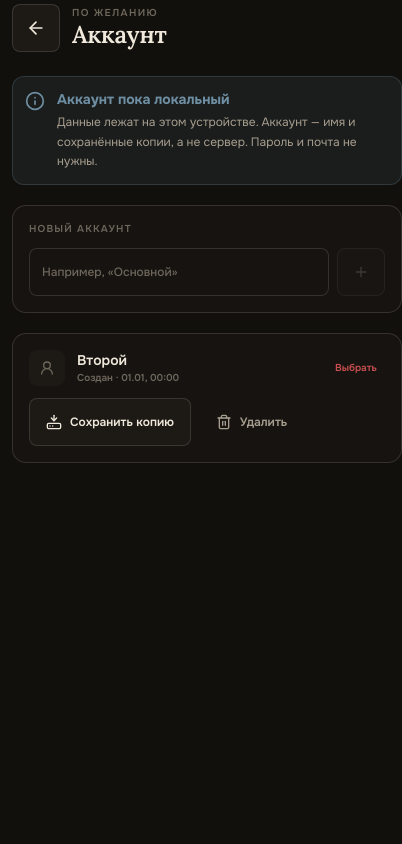
Accounts page › restores a snapshot and reports the count
Check: the text "Второй" is shown, box [77,350,127,368]
What coordinates should you click on to do the following:
click the button "Выбрать"
I would click on:
 (356, 368)
Its box is [327,350,385,386].
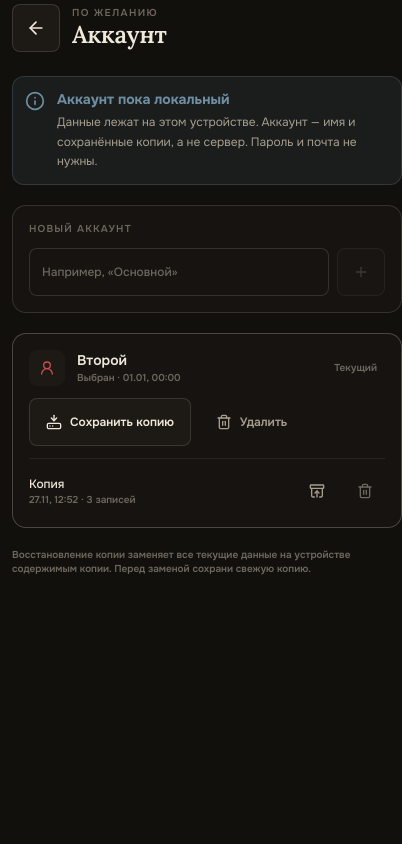
What coordinates should you click on to do the following:
click the button named "Восстановить копию"
I would click on:
 (317, 490)
Its box is [297,470,337,510].
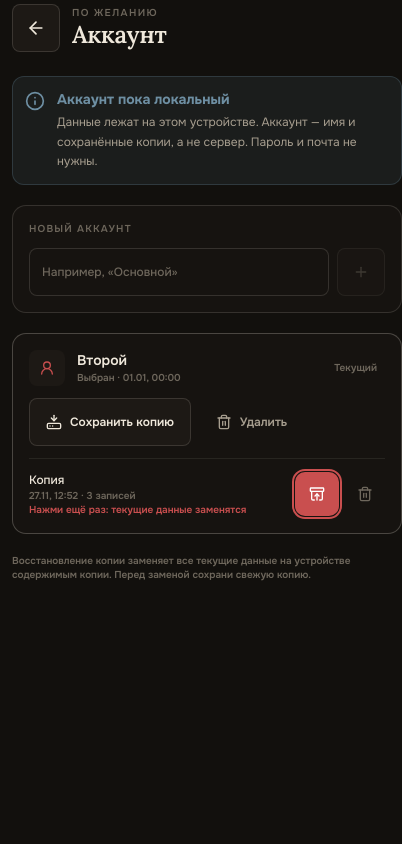
Check: the text "Нажми ещё раз: текущие данные заменятся" is shown, box [29,502,246,516]
What coordinates should you click on to do the following:
click the button named "Подтвердить восстановление"
I would click on:
 (317, 494)
Its box is [297,474,337,514].
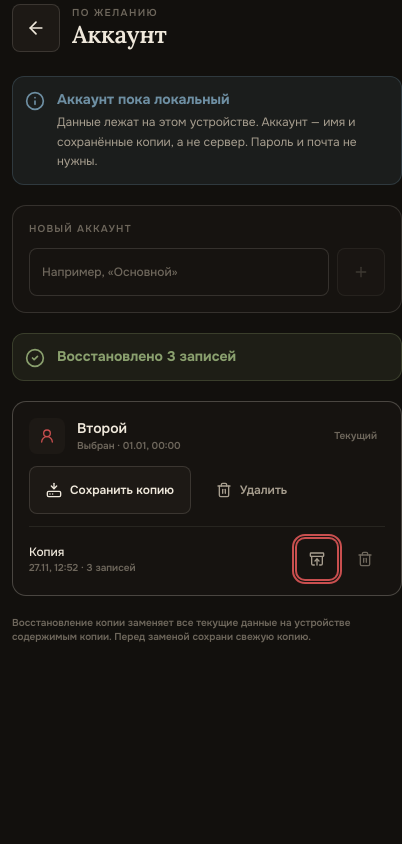
Check: the text "Восстановлено 3 записей" is shown, box [57,346,236,366]
